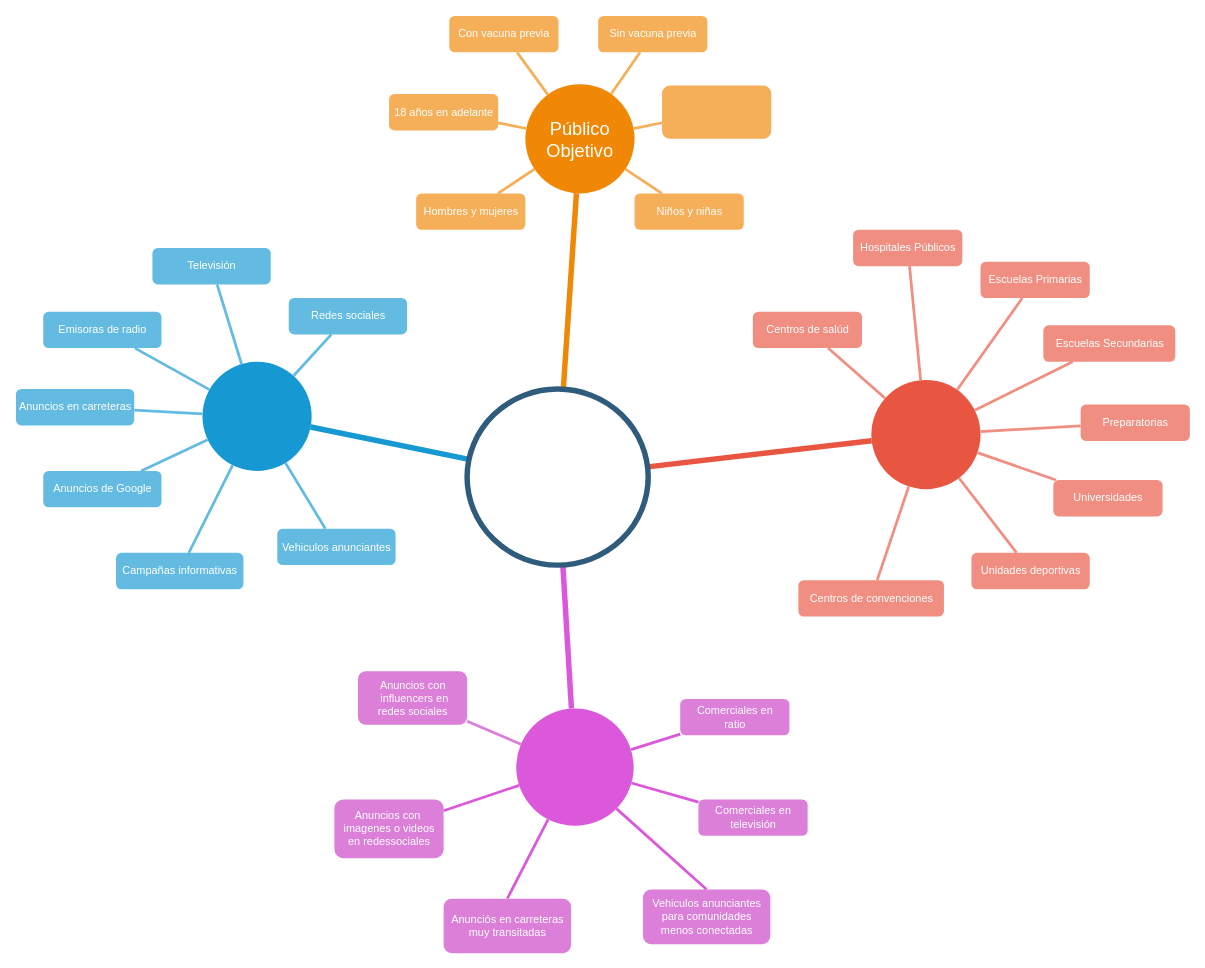
This 1205x968 diagram has some shape labels left out. Here are the shapes that lost their labels. From the top down, the centre of each, then its label:
(x=716, y=111): Menores de 18 años acompañados de un tutor legal
(x=256, y=415): Medios de Difusión
(x=925, y=434): Lugares de distribuión
(x=557, y=476): Vacunación
(x=574, y=766): Tipos de campañas informativas
